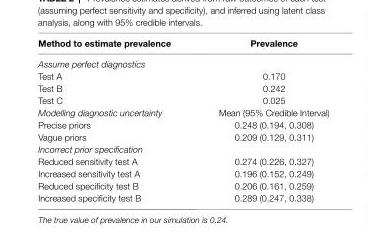table: (37, 37, 328, 202)
table column: (37, 37, 194, 202), (194, 37, 328, 202)
table column header: (37, 37, 328, 52)
table projected row header: (37, 52, 328, 69), (37, 142, 328, 154)
table row: (37, 52, 328, 69), (37, 37, 328, 52), (37, 105, 328, 118), (37, 178, 328, 191), (37, 69, 328, 81), (37, 81, 328, 93), (37, 93, 328, 105), (37, 118, 328, 130), (37, 130, 328, 142), (37, 142, 328, 154), (37, 154, 328, 166), (37, 166, 328, 178), (37, 191, 328, 202)
